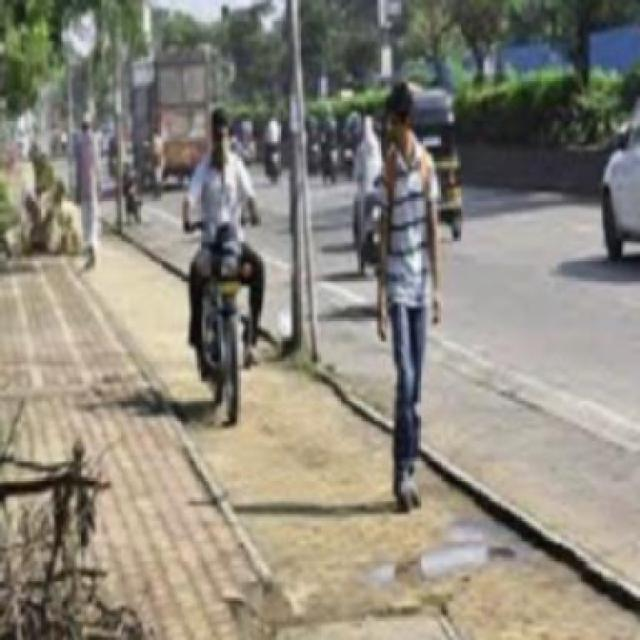Person: (374, 79, 444, 510), (183, 96, 268, 349)
